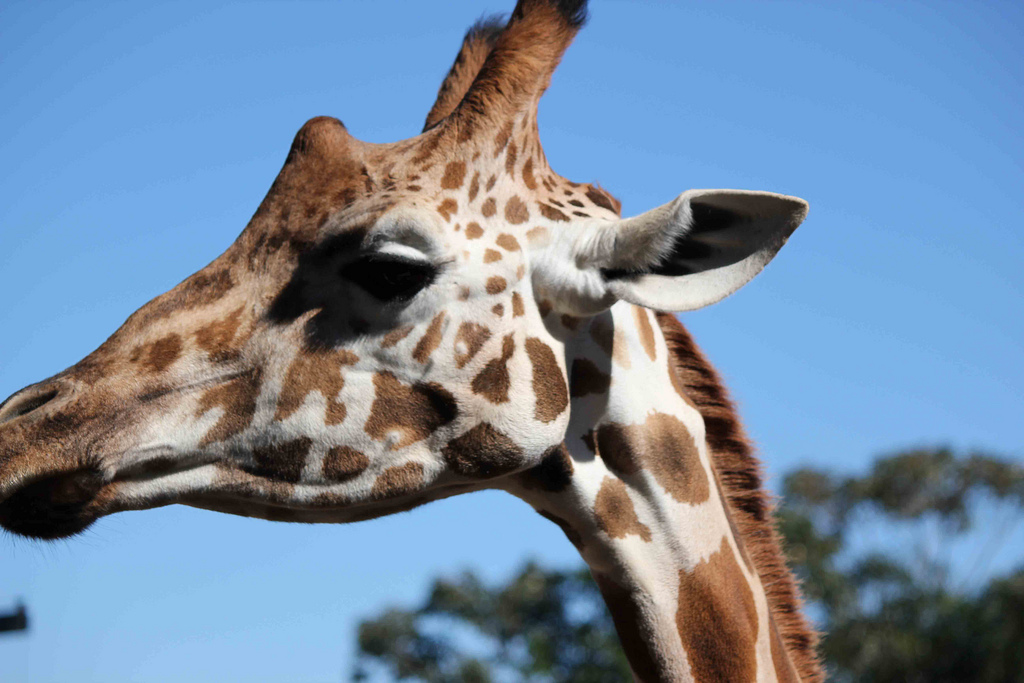giraffe: (15, 34, 876, 666)
